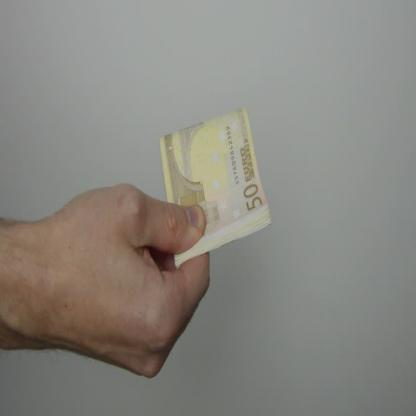billete: (158, 106, 272, 268)
